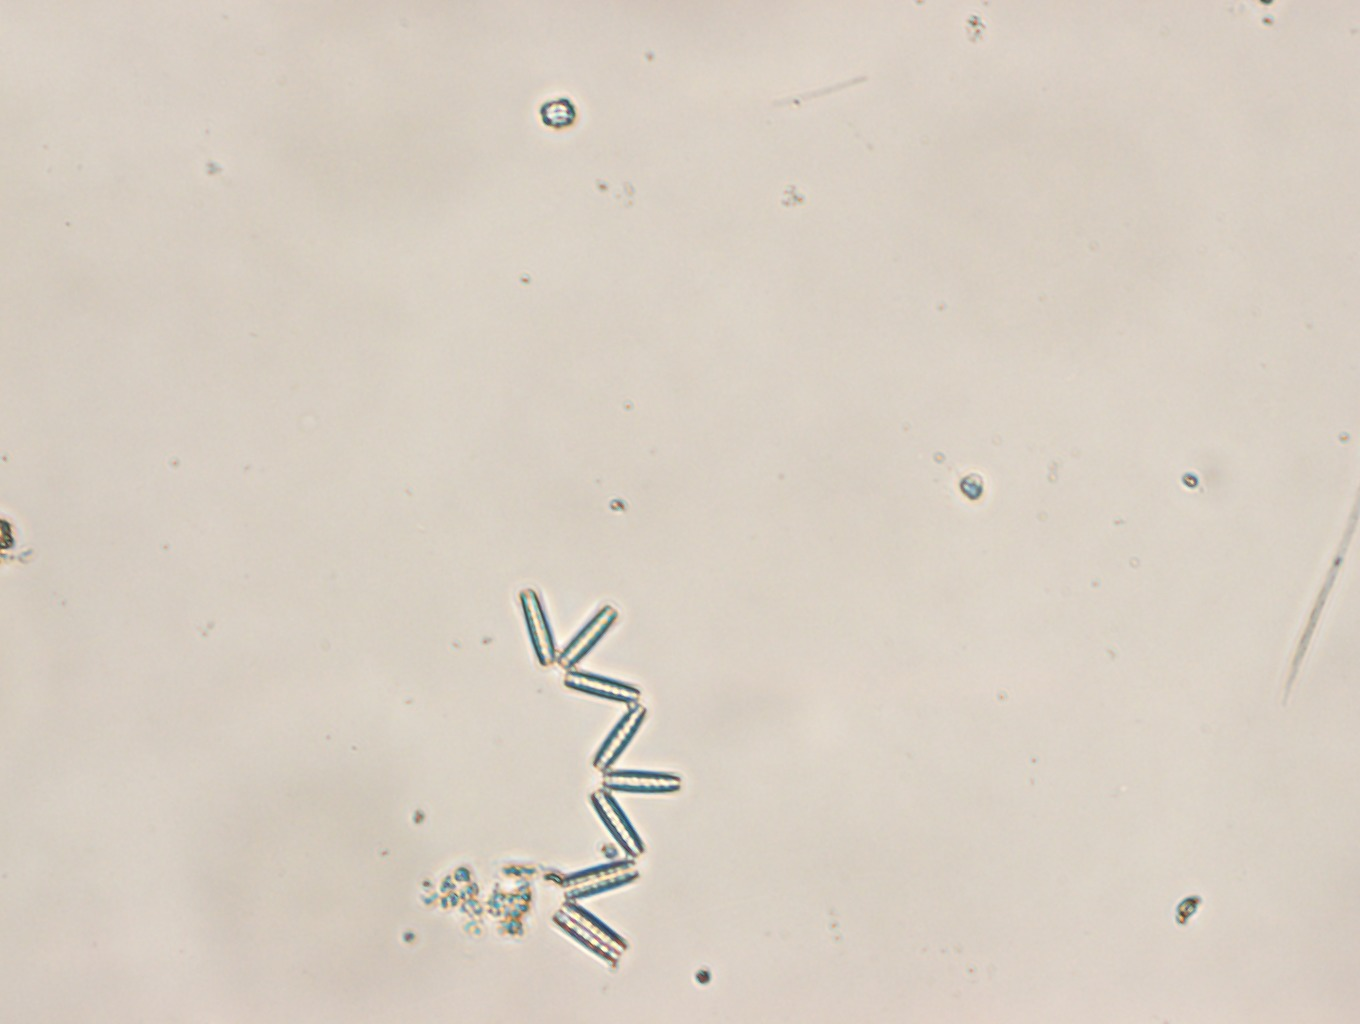thalassionema nitzschioides: (517, 586, 679, 966)
